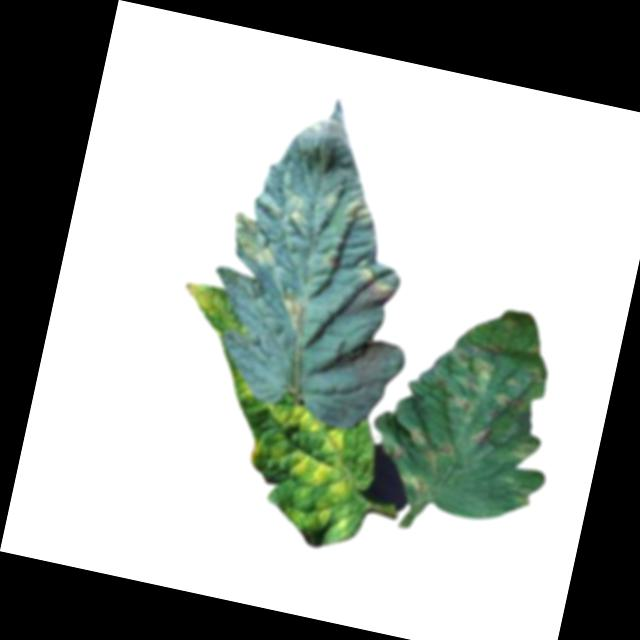Leaf_Mold: (266, 401, 366, 495), (225, 211, 281, 268), (404, 424, 458, 477), (344, 261, 402, 309), (265, 189, 312, 234), (459, 349, 499, 399), (488, 385, 531, 424), (388, 473, 433, 510), (274, 290, 310, 336), (181, 278, 222, 316), (343, 194, 378, 228), (468, 419, 501, 450), (509, 433, 538, 463), (244, 438, 265, 464)
